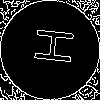H: (25, 25, 74, 66)
